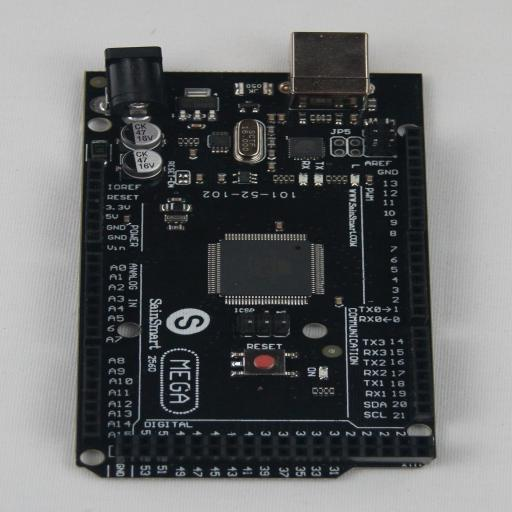Arduino Mega 2560 -Black-: (76, 32, 436, 478)
